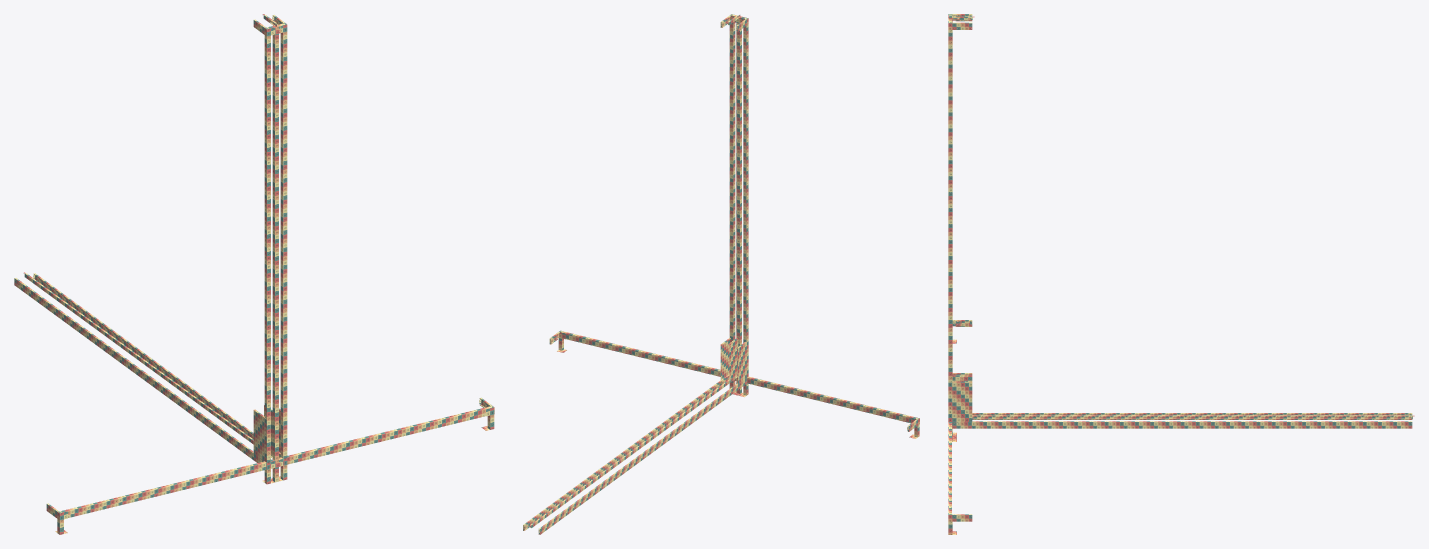
The model's file is urbanOnePosts_1.glb.
The picture shows the model from 3 angles, left to right: view 1: azimuth 30°, elevation 25°; view 2: azimuth 150°, elevation 25°; view 3: azimuth 270°, elevation 25°; orthographic projection. The views are drawn at different scales.
Visible parts, largest first — view 1: outsideBarWidth, postRightGeneralHeight, postMiddleGeneralHeight, postLeftGeneralHeight, connectionBarLeftDepth, connectionBarRightDepth, purlinDepth, connectionBarLeftHeight; view 2: outsideBarWidth, postRightGeneralHeight, postMiddleGeneralHeight, postLeftGeneralHeight, connectionBarLeftDepth, connectionBarRightDepth, purlinDepth; view 3: connectionBarRightDepth, purlinDepth, postRightGeneralHeight, connectionBarLeftDepth, connectionBarRightHeight.
Part boxes in pixels (box(x1,y1,x2,y2)): outsideBarWidth: box(58, 404, 492, 517); postRightGeneralHeight: box(279, 24, 287, 480); postMiddleGeneralHeight: box(272, 26, 281, 482); postLeftGeneralHeight: box(264, 27, 275, 484); connectionBarLeftDepth: box(14, 278, 260, 462); connectionBarRightDepth: box(33, 273, 279, 457); purlinDepth: box(23, 272, 253, 444); connectionBarLeftHeight: box(253, 409, 266, 462); outsideBarWidth: box(554, 331, 918, 423); postRightGeneralHeight: box(729, 16, 735, 387); postMiddleGeneralHeight: box(735, 17, 741, 393); postLeftGeneralHeight: box(741, 18, 748, 395); connectionBarLeftDepth: box(538, 380, 743, 534); connectionBarRightDepth: box(523, 376, 726, 530); purlinDepth: box(529, 376, 735, 527); connectionBarRightDepth: box(958, 421, 1412, 428); purlinDepth: box(972, 415, 1414, 419); postRightGeneralHeight: box(948, 30, 952, 440); connectionBarLeftDepth: box(972, 413, 1412, 419); connectionBarRightHeight: box(948, 381, 972, 423).
Bounding box in the file's own units: 10.5 × 10.55 × 10.6.
1 material, 1 textured.
